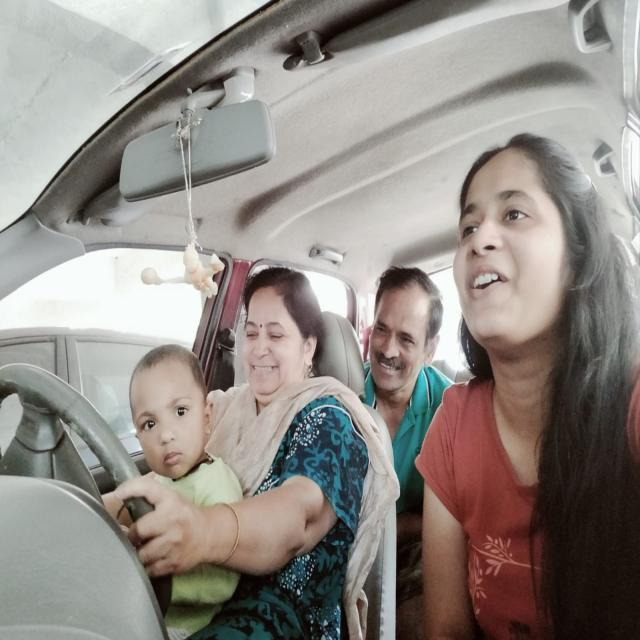child: (114, 332, 222, 490)
person: (447, 118, 637, 428), (223, 244, 333, 432), (362, 246, 445, 400)
